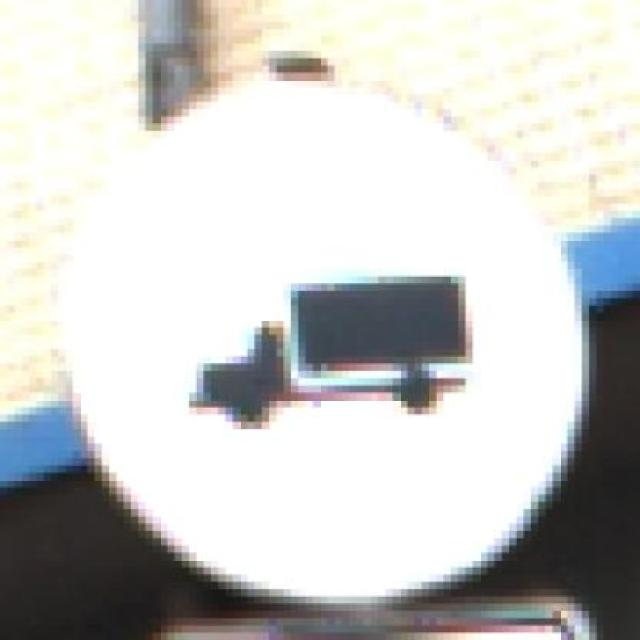Truck traffic is prohibited: (43, 51, 611, 597)
